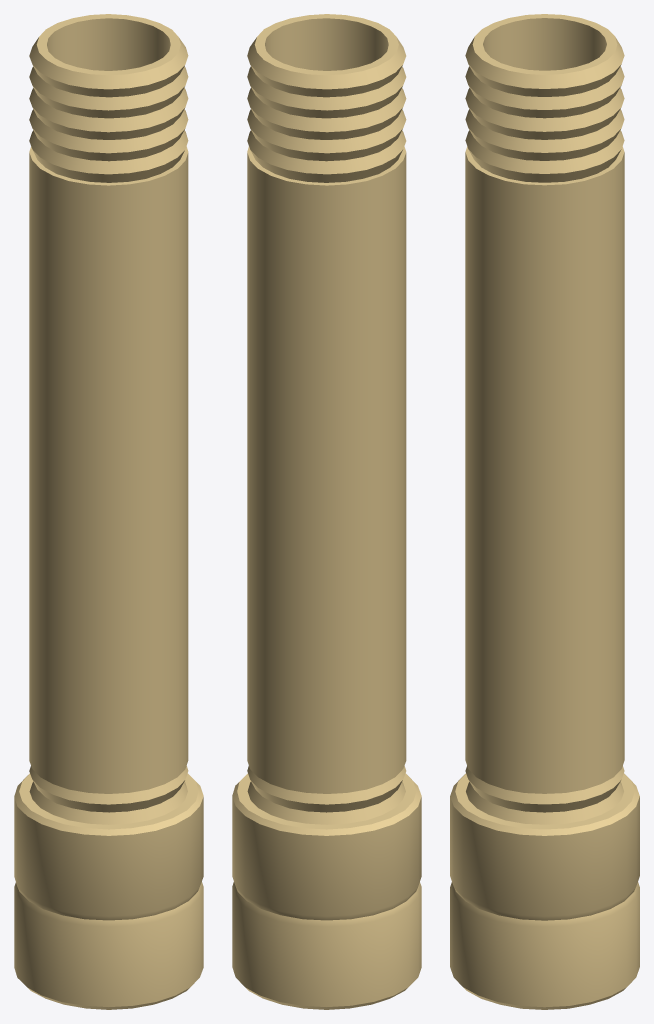
The model's file is pipes_supply__water_heater__922b8daa.glb.
3 renders of one model, left to right at view 1: azimuth 30°, elevation 25°; view 2: azimuth 150°, elevation 25°; view 3: azimuth 270°, elevation 25°, orthographic.
Parts seen in each view (by area): view 1: pipe_supply_wh_nipple_hot, fit_coupling_wh_nipple_hot; view 2: pipe_supply_wh_nipple_hot, fit_coupling_wh_nipple_hot; view 3: pipe_supply_wh_nipple_hot, fit_coupling_wh_nipple_hot.
Boxes of the visible parts, x1=… form: pipe_supply_wh_nipple_hot: x1=29, y1=14, x2=188, y2=824; fit_coupling_wh_nipple_hot: x1=14, y1=773, x2=203, y2=1009; pipe_supply_wh_nipple_hot: x1=247, y1=14, x2=406, y2=824; fit_coupling_wh_nipple_hot: x1=232, y1=773, x2=421, y2=1009; pipe_supply_wh_nipple_hot: x1=465, y1=14, x2=624, y2=824; fit_coupling_wh_nipple_hot: x1=450, y1=773, x2=639, y2=1009.
Size of the model in its own units: 0.0317 by 0.1719 by 0.0319.
